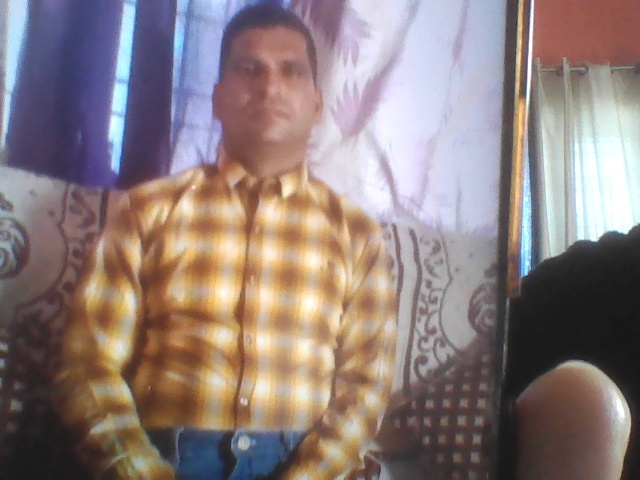fake: (217, 0, 332, 163)
